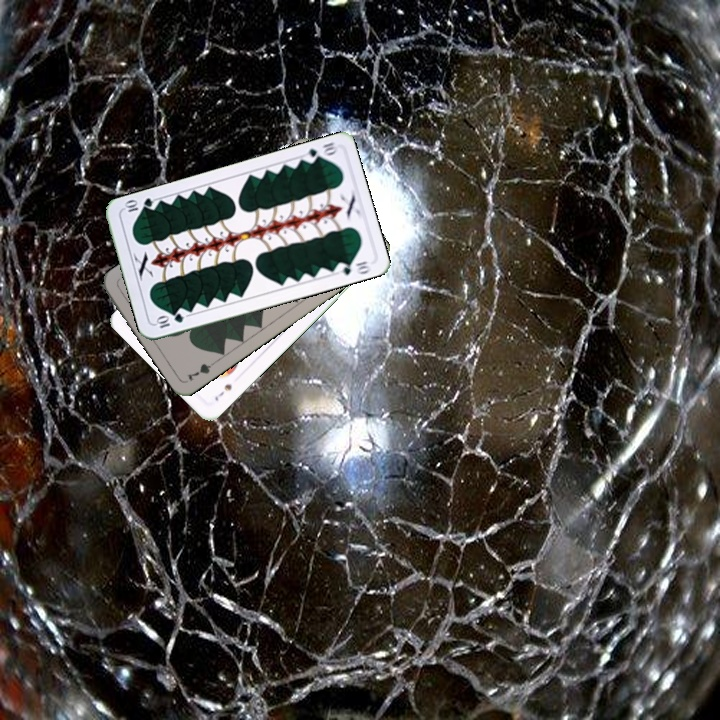G10: (301, 138, 339, 165), (151, 309, 186, 331)
G7: (182, 356, 220, 384)
S7: (211, 380, 235, 404)
